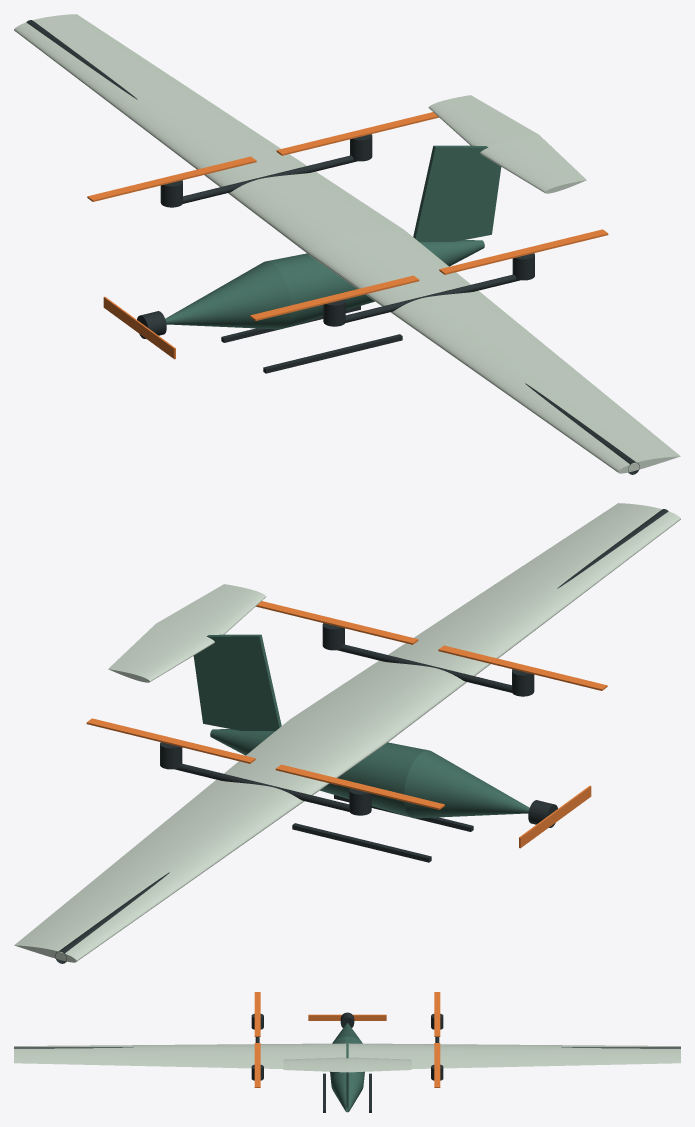
3 renders of one model, top to bottom at view 1: azimuth 30°, elevation 25°; view 2: azimuth 150°, elevation 25°; view 3: azimuth 270°, elevation 25°, orthographic. The views are drawn at different scales.
Parts seen in each view (by area): view 1: wing-1, wing1, fuselage, fin, tail-1, tail1, prop_-1_700.0, prop_1_230.0, prop_-1_230.0, prop_1_700.0, wing_spar, boom-1 (+3 smaller); view 2: wing1, wing-1, fuselage, fin, tail1, tail-1, prop_1_700.0, prop_-1_230.0, prop_1_230.0, prop_-1_700.0, wing_spar, boom1 (+3 smaller); view 3: wing-1, wing1, fuselage, tail-1, tail1, cruise_prop, wing_spar, prop_-1_230.0, prop_-1_700.0, prop_1_230.0, prop_1_700.0.
Boxes of the visible parts, bbox=[...] form: wing-1: bbox=[307, 229, 680, 473]; wing1: bbox=[14, 14, 403, 253]; fuselage: bbox=[165, 240, 484, 329]; fin: bbox=[413, 145, 501, 241]; tail-1: bbox=[480, 134, 586, 193]; tail1: bbox=[428, 95, 538, 146]; prop_-1_700.0: bbox=[439, 229, 608, 274]; prop_1_230.0: bbox=[87, 156, 256, 201]; prop_-1_230.0: bbox=[250, 275, 419, 320]; prop_1_700.0: bbox=[276, 112, 438, 155]; wing_spar: bbox=[26, 20, 639, 474]; boom-1: bbox=[345, 274, 519, 322]; wing1: bbox=[14, 718, 387, 962]; wing-1: bbox=[291, 503, 680, 742]; fuselage: bbox=[210, 729, 529, 818]; fin: bbox=[193, 634, 281, 730]; tail1: bbox=[108, 623, 214, 682]; tail-1: bbox=[156, 584, 266, 635]; prop_1_700.0: bbox=[86, 718, 255, 763]; prop_-1_230.0: bbox=[438, 645, 607, 690]; prop_1_230.0: bbox=[275, 764, 444, 809]; prop_-1_700.0: bbox=[256, 601, 418, 644]; wing_spar: bbox=[55, 509, 668, 963]; boom1: bbox=[175, 763, 349, 811]; wing-1: bbox=[14, 1043, 346, 1068]; wing1: bbox=[348, 1043, 680, 1068]; fuselage: bbox=[330, 1023, 364, 1112]; tail-1: bbox=[283, 1057, 347, 1072]; tail1: bbox=[347, 1057, 411, 1072]; cruise_prop: bbox=[308, 1014, 386, 1020]; wing_spar: bbox=[14, 1047, 680, 1048]; prop_-1_230.0: bbox=[254, 992, 260, 1036]; prop_-1_700.0: bbox=[254, 1043, 260, 1087]; prop_1_230.0: bbox=[434, 992, 440, 1036]; prop_1_700.0: bbox=[434, 1043, 440, 1087].
Bounding box in the file's own units: 994 × 390 × 2600.
